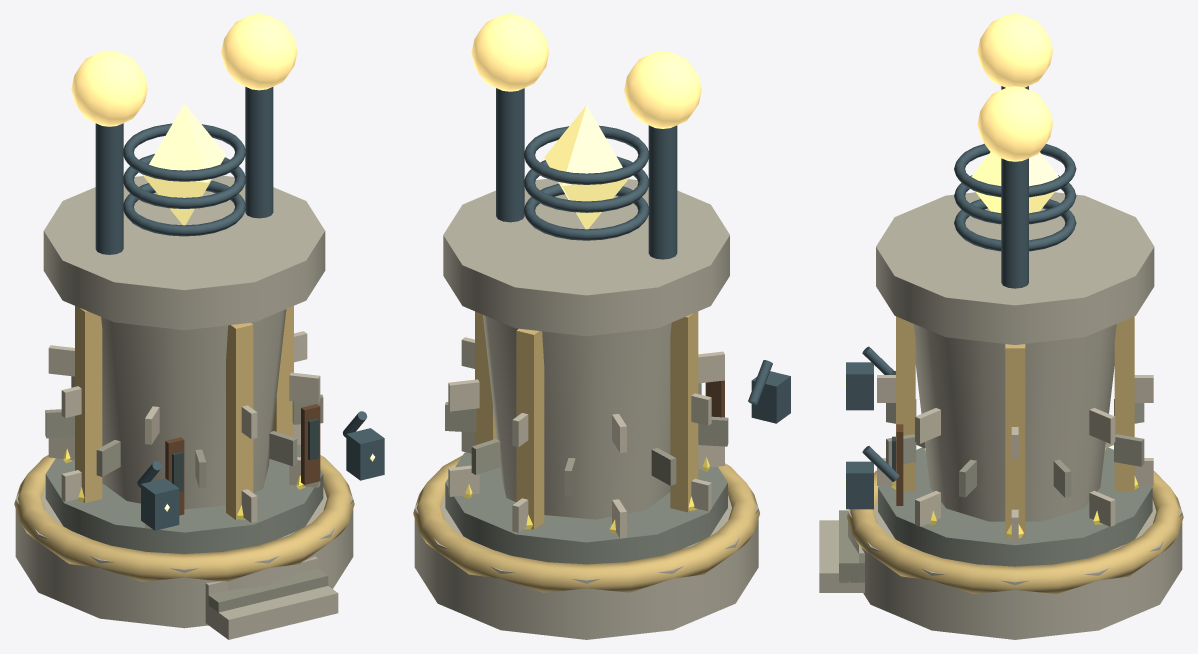
File: tower-thunder-1-base.glb
3 views of the same model, side by side, from view 1: azimuth 30°, elevation 25°; view 2: azimuth 150°, elevation 25°; view 3: azimuth 270°, elevation 25° (orthographic). The views are drawn at different scales.
Parts seen in each view (by area): view 1: Foundation, Turret, thunder-L1-base; view 2: Foundation, Turret, thunder-L1-base; view 3: Foundation, Turret, thunder-L1-base.
Part boxes in pixels (left/top/right/bottom): Foundation: left=14, top=306, right=384, bottom=639; Turret: left=43, top=14, right=325, bottom=330; thunder-L1-base: left=15, top=444, right=353, bottom=628; Foundation: left=413, top=311, right=790, bottom=592; Turret: left=443, top=14, right=729, bottom=336; thunder-L1-base: left=414, top=452, right=758, bottom=639; Foundation: left=819, top=316, right=1183, bottom=593; Turret: left=876, top=14, right=1154, bottom=344; thunder-L1-base: left=848, top=447, right=1182, bottom=639.
Bounding box in the file's own units: 1.69 × 2.86 × 1.83.
